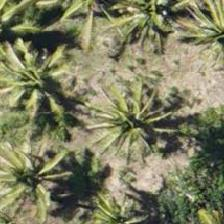coconut_tree: (83, 70, 173, 160), (0, 35, 86, 125), (0, 128, 77, 218), (107, 0, 197, 53), (71, 174, 161, 223)
